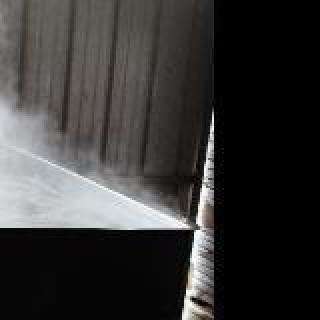fire: (0, 0, 196, 232)
